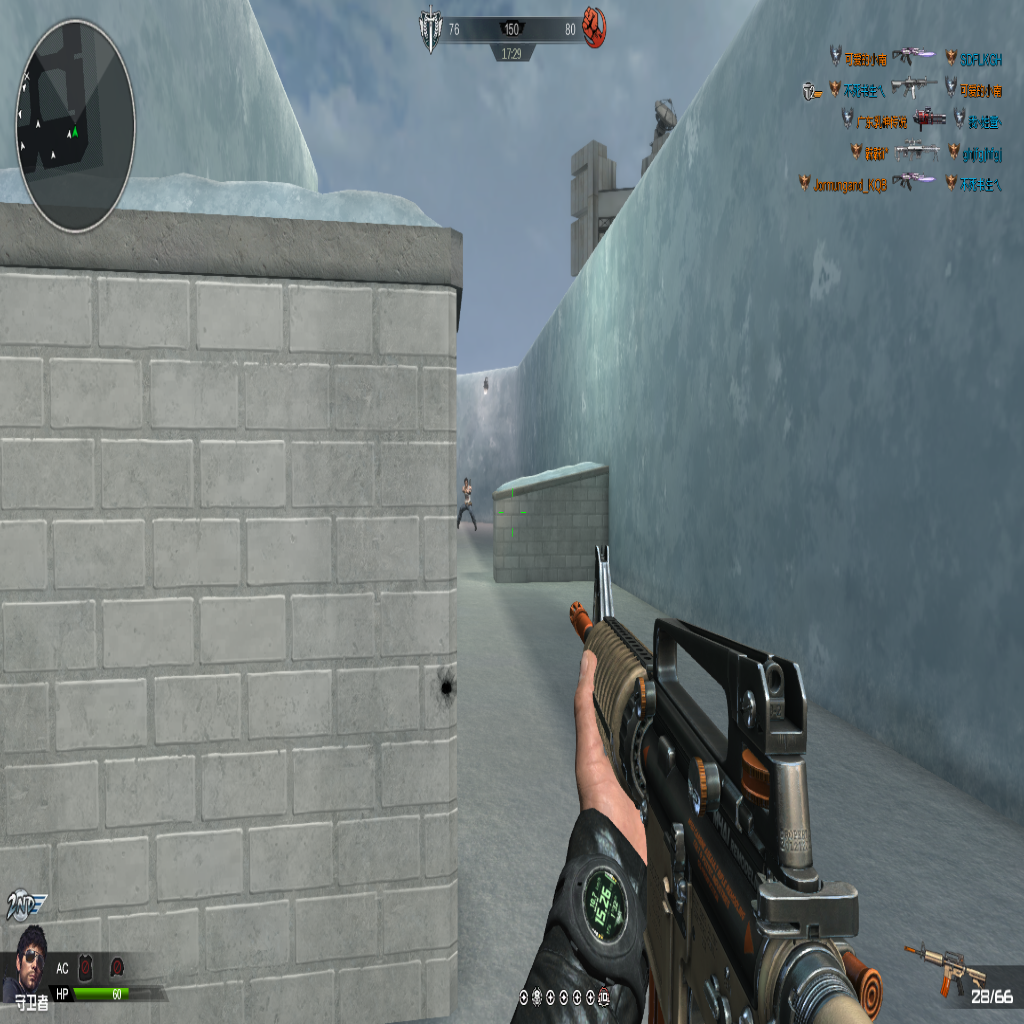tt: (458, 474, 477, 530)
